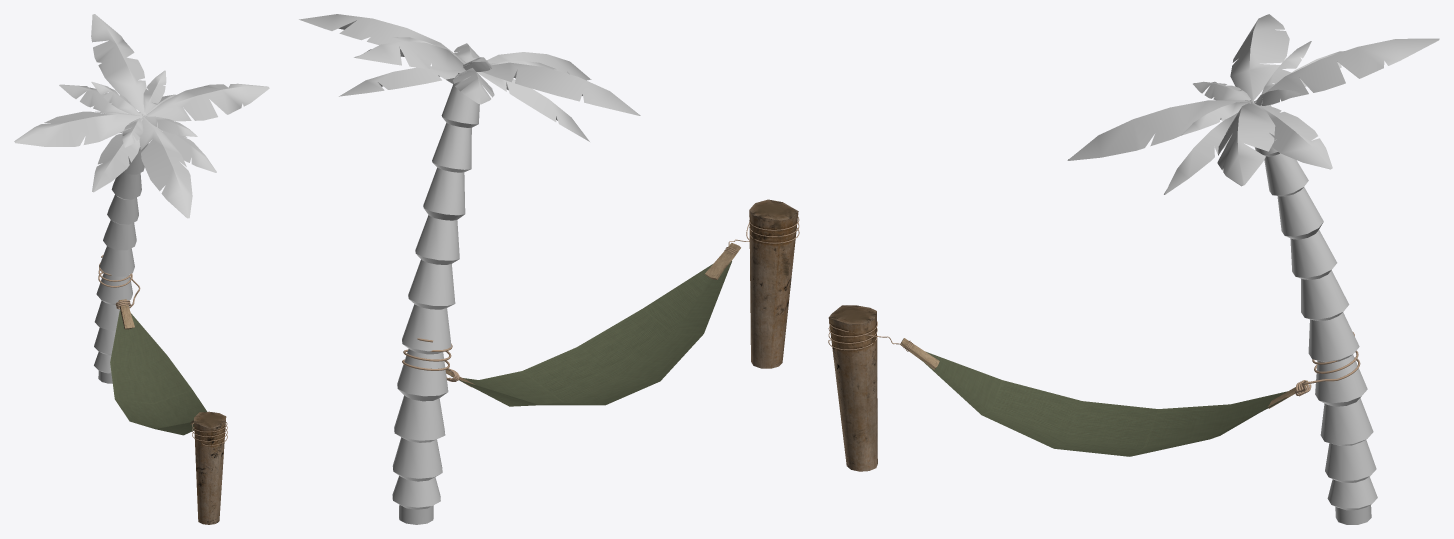
File: hammock+fbx.fbx
3 views of the same model, side by side, from view 1: azimuth 30°, elevation 25°; view 2: azimuth 150°, elevation 25°; view 3: azimuth 270°, elevation 25° (orthographic). The views are drawn at different scales.
Visible parts, largest first — view 1: tree, hammock; view 2: tree, hammock; view 3: tree, hammock.
Part boxes in pixels (x1,y1,x2,y2): tree: (14, 14, 269, 383); hammock: (98, 255, 227, 524); tree: (299, 14, 640, 524); hammock: (402, 199, 799, 406); tree: (1067, 14, 1439, 524); hammock: (828, 305, 1360, 471).
Bounding box in the file's own units: 751 × 990 × 1125.
